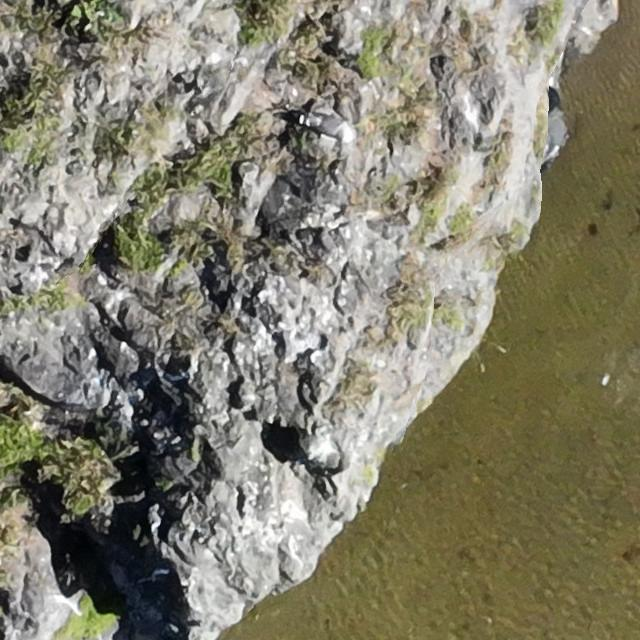umineko: (311, 117, 353, 142)
